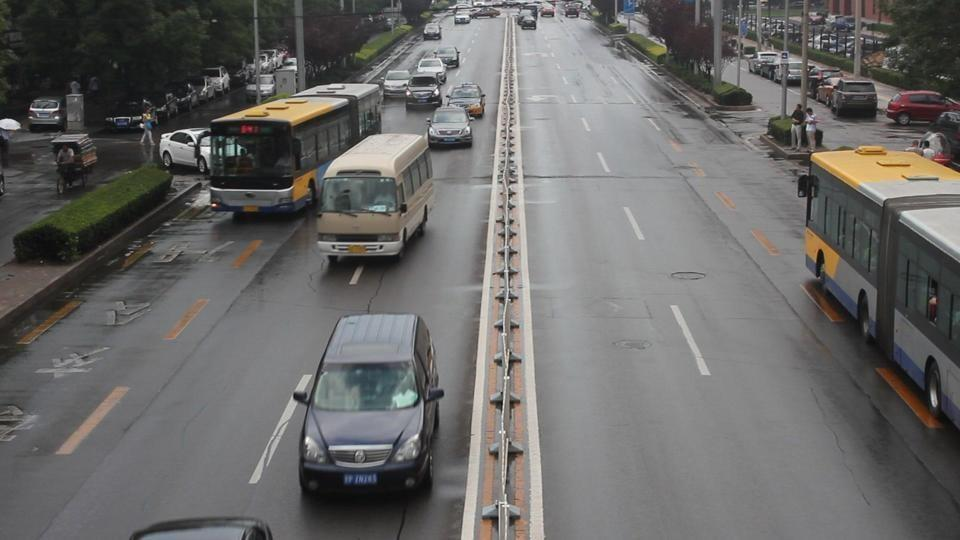car: (292, 311, 446, 499), (829, 83, 957, 121), (127, 515, 277, 538), (886, 90, 960, 125), (159, 127, 211, 173), (911, 120, 960, 168), (830, 78, 878, 119), (426, 107, 473, 147), (446, 82, 487, 120), (105, 99, 150, 130), (404, 75, 443, 110), (28, 97, 65, 132), (411, 57, 447, 87), (748, 50, 785, 78), (813, 68, 843, 99), (382, 69, 413, 99), (929, 111, 960, 136), (807, 66, 840, 86), (435, 45, 461, 69), (782, 61, 805, 84), (517, 10, 537, 29), (423, 23, 441, 40), (453, 12, 471, 25)
